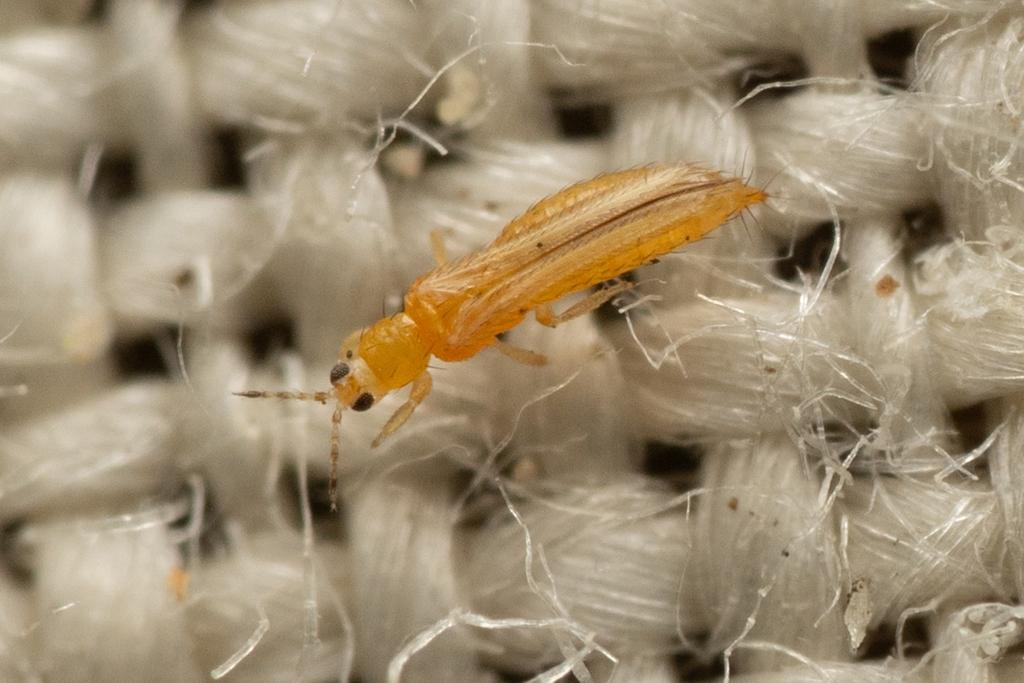tiny_pests: (188, 117, 847, 525)
